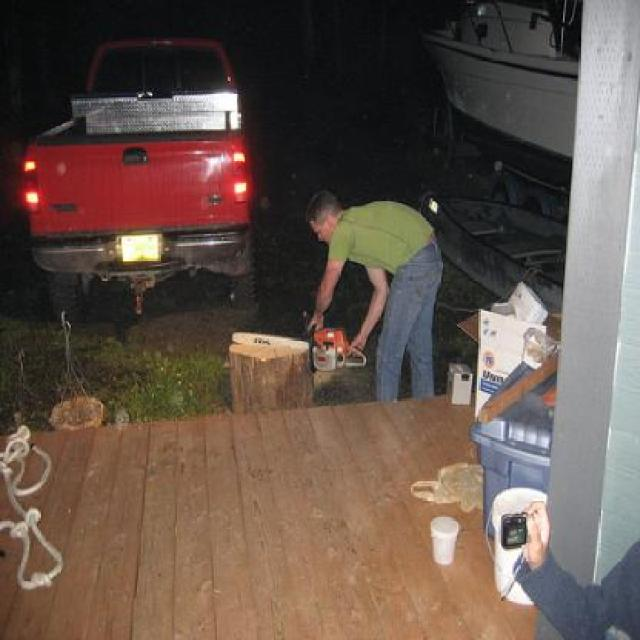Chainsaw: (231, 311, 366, 372)
